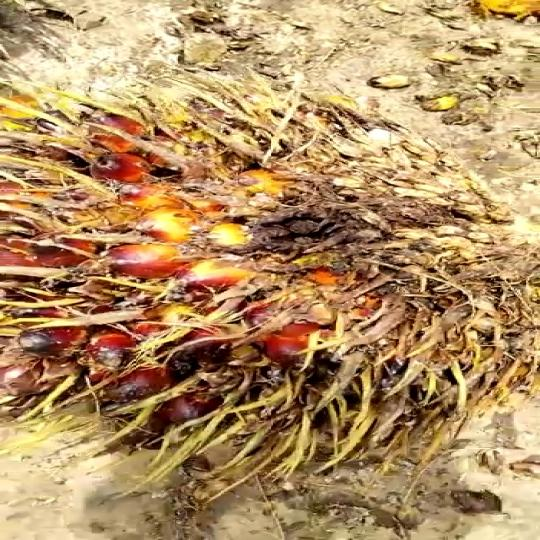masak: (0, 87, 540, 483)
